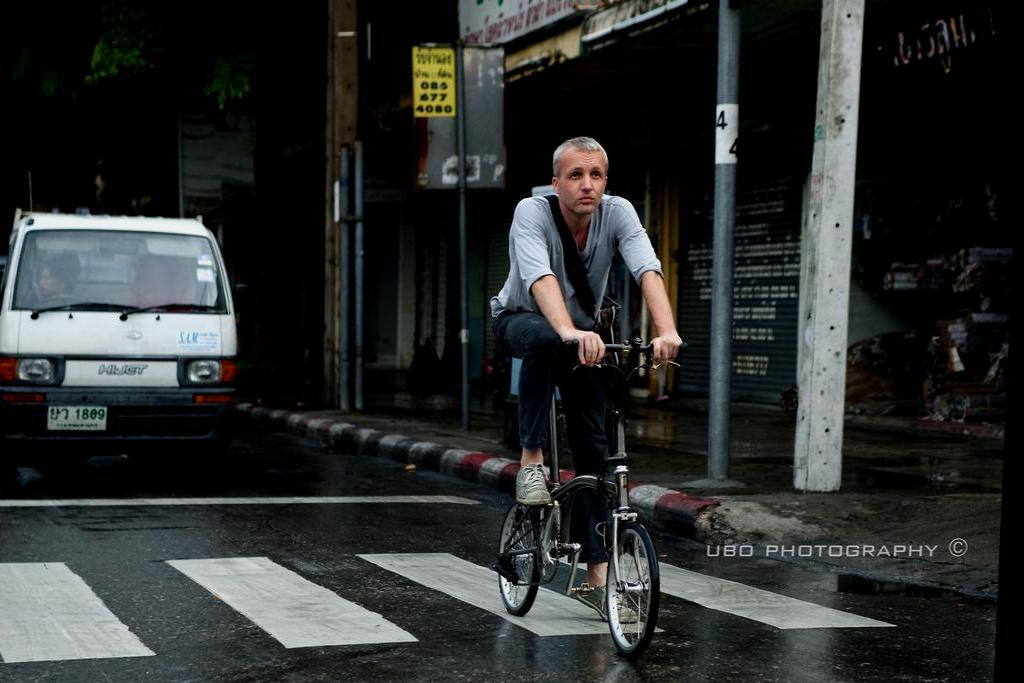License_Plate: (48, 404, 108, 430)
